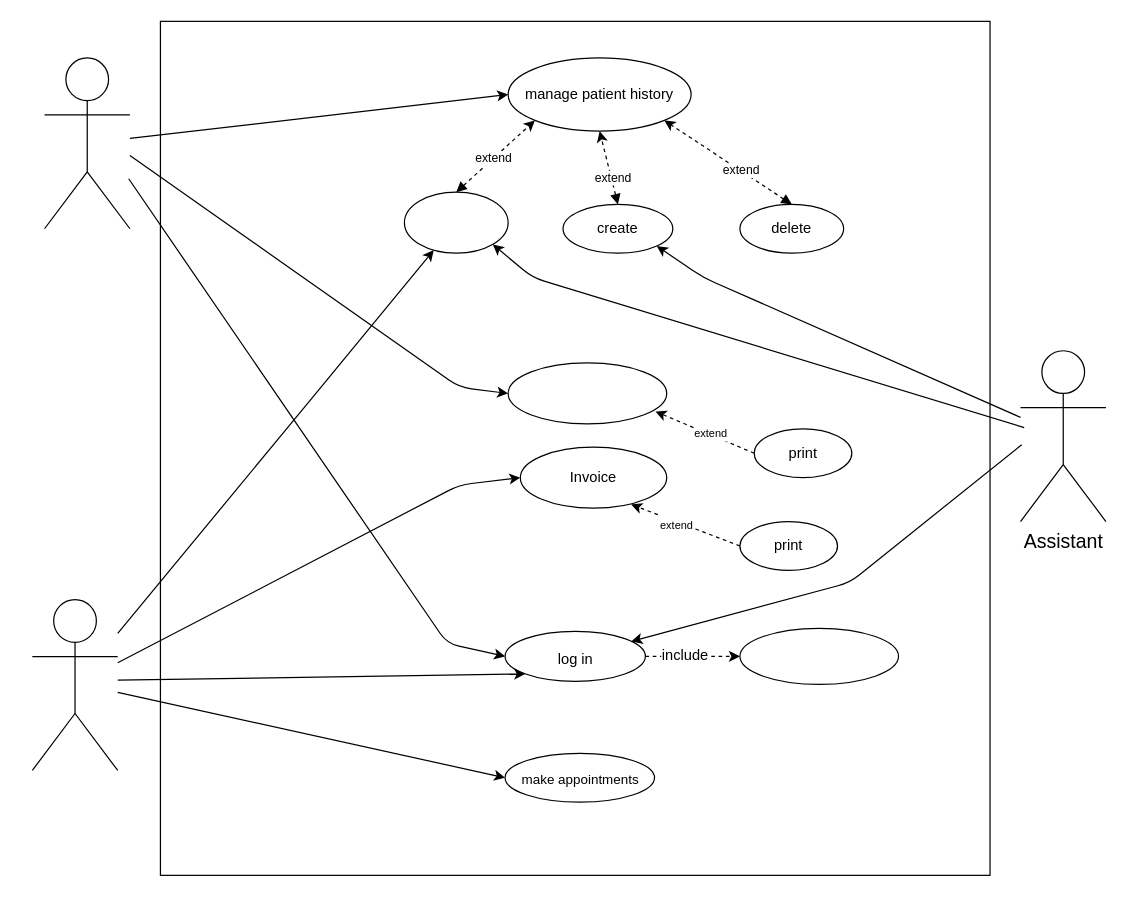
Some shapes in this 1127 by 897 pixel diagram are drawn without their labels. The shapes that lost their labels are listed below. From the top down, each one's centre as x and y in pixels, then its label:
At (x=86, y=143): "Dentist".
At (x=455, y=222): "modify".
At (x=587, y=393): "generate quote".
At (x=819, y=655): "verify credentials".
At (x=74, y=684): "Receptionist".
